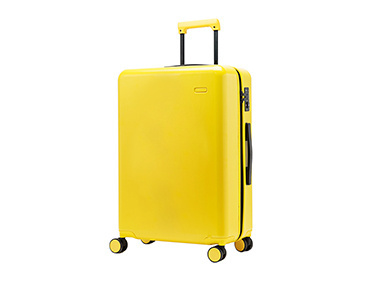suitcase: (111, 19, 254, 263)
